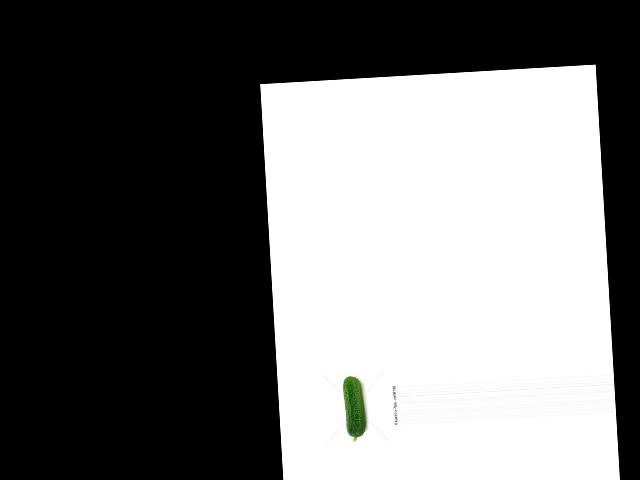cucumber: (342, 374, 366, 441)
